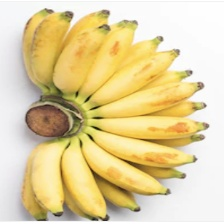banana: (26, 60, 217, 195)
